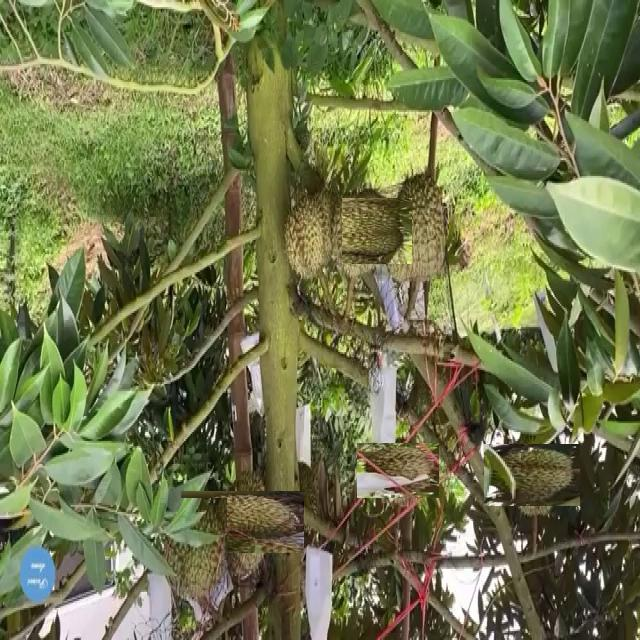durian: (196, 476, 289, 569), (382, 169, 448, 292), (320, 189, 404, 273), (160, 498, 227, 603), (492, 435, 571, 515), (283, 179, 342, 285), (363, 436, 433, 506)
